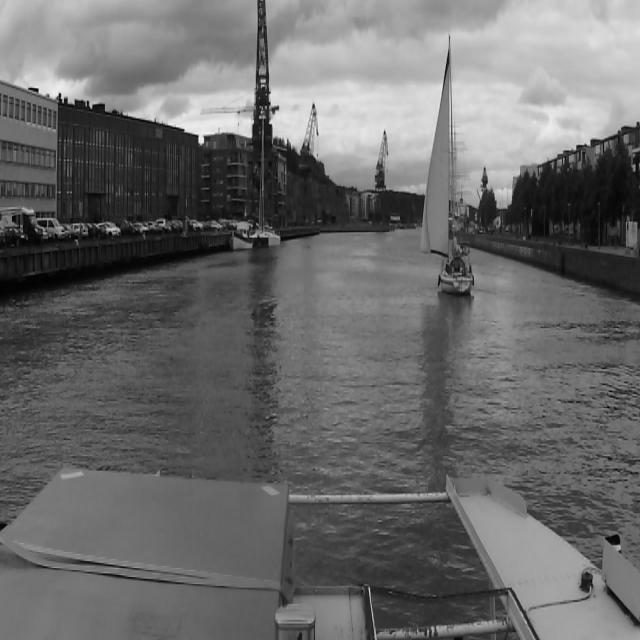ship: (419, 32, 474, 301), (253, 118, 281, 247), (228, 206, 254, 252)
